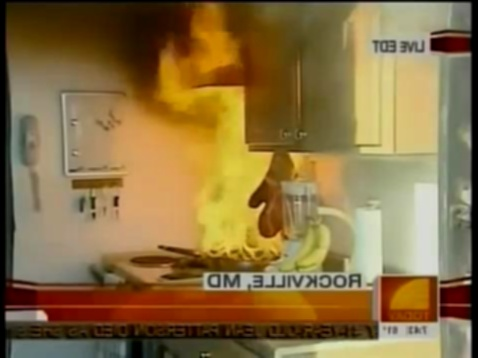fire: (181, 3, 252, 252)
